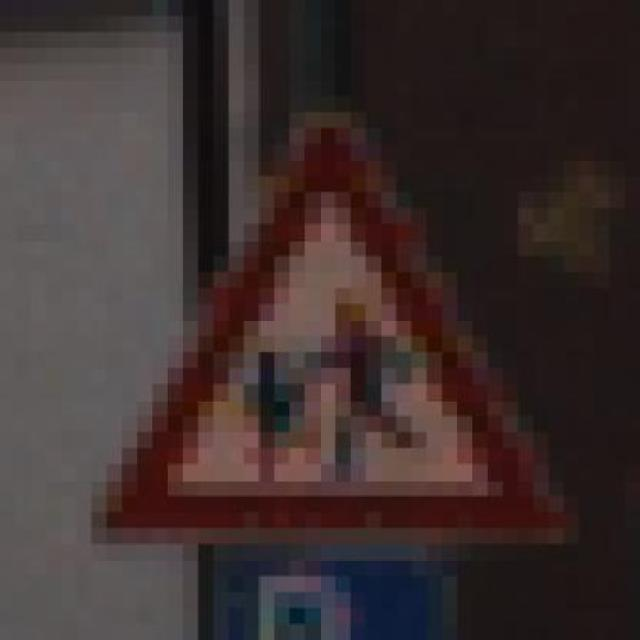Beware of children: (61, 80, 579, 560)
